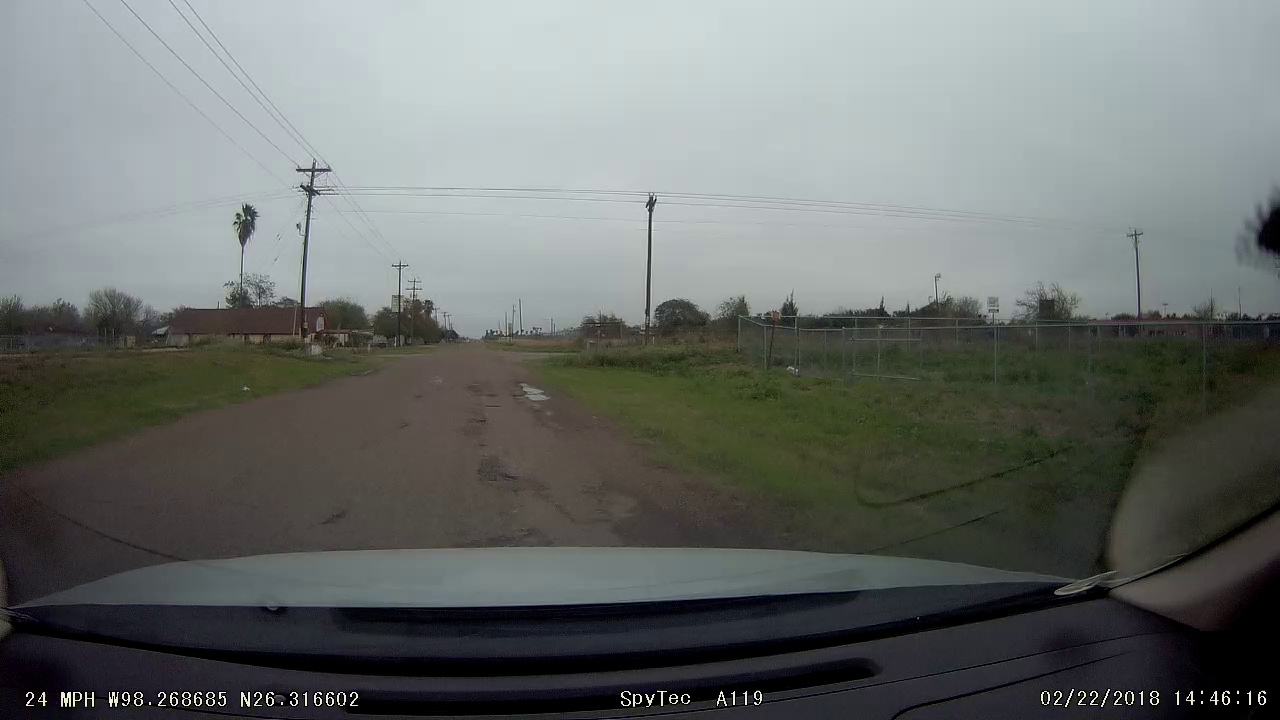pothole: (476, 454, 513, 488), (507, 380, 550, 406)
